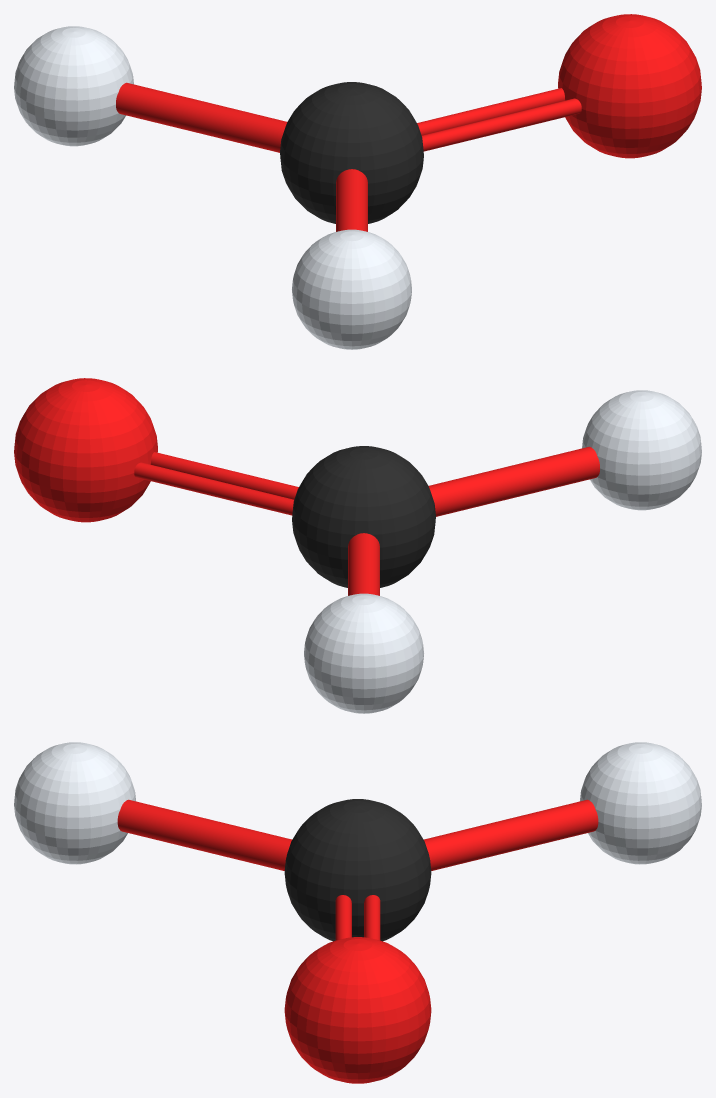
File: formaldehyde.fbx
3 renders of one model, top to bottom at view 1: azimuth 30°, elevation 25°; view 2: azimuth 150°, elevation 25°; view 3: azimuth 270°, elevation 25°, orthographic.
Parts seen in each view (by area): view 1: aldehydes; view 2: aldehydes; view 3: aldehydes.
Part boxes in pixels (x1,y1,x2,y2): aldehydes: [14, 14, 701, 349]; aldehydes: [14, 378, 701, 713]; aldehydes: [14, 742, 701, 1083].
Bounding box in the file's own units: 153 × 36 × 168.
